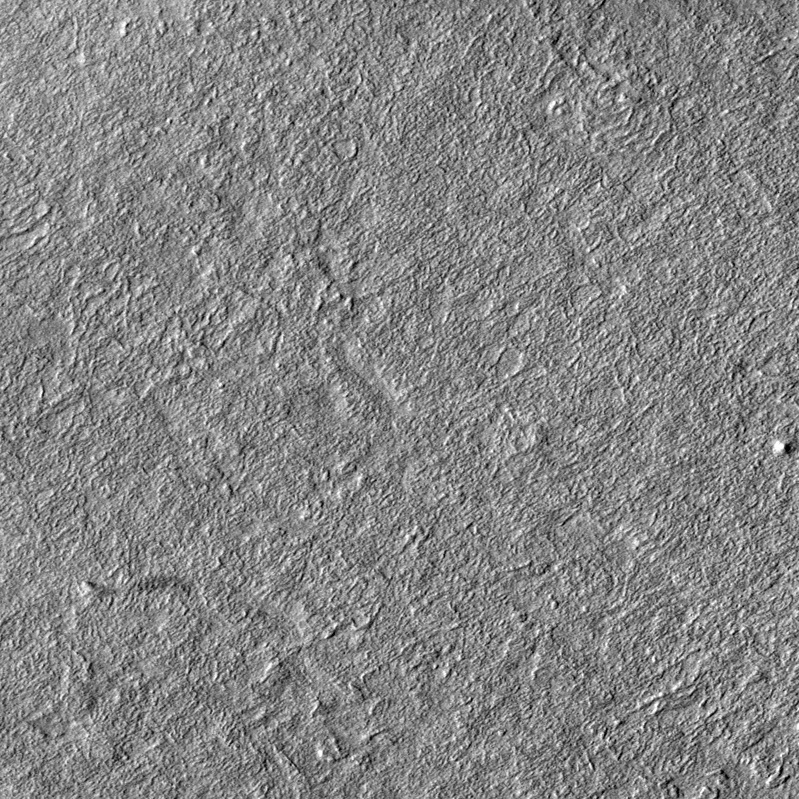dust_devil: (75, 573, 193, 606)
